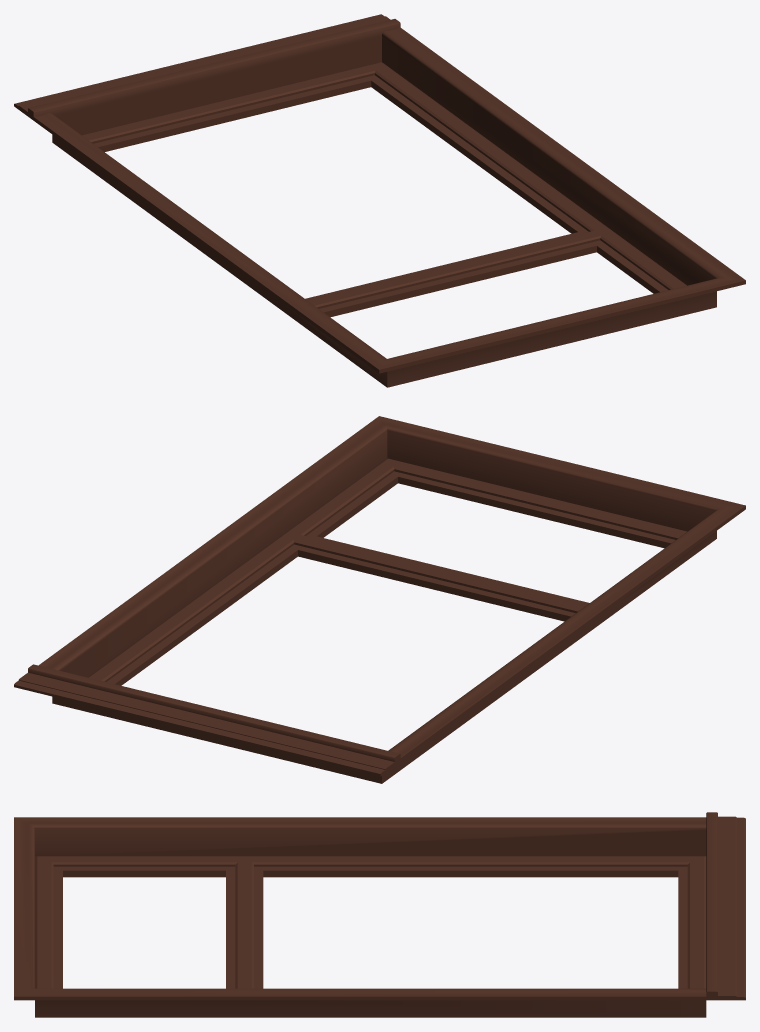
The model's file is window_right.obj.
3 renders of one model, top to bottom at view 1: azimuth 30°, elevation 25°; view 2: azimuth 150°, elevation 25°; view 3: azimuth 270°, elevation 25°, orthographic.
Visible parts, largest first — view 1: window_right; view 2: window_right; view 3: window_right.
Part boxes in pixels (box(x1,y1,x2,y2)): window_right: box(14, 14, 745, 387); window_right: box(14, 416, 745, 783); window_right: box(14, 812, 745, 1017).
Bounding box in the file's own units: 0.8764 × 0.1 × 1.51.
Materials: 1 (1 with a texture image).
